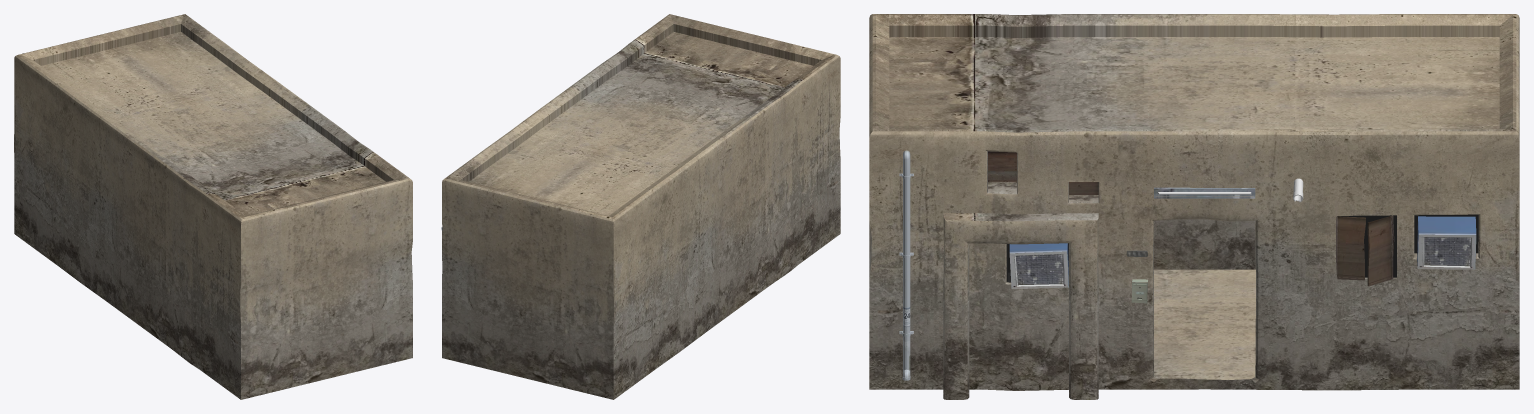
The model's file is block_hq.glb.
The picture shows the model from 3 angles, left to right: view 1: azimuth 30°, elevation 25°; view 2: azimuth 150°, elevation 25°; view 3: azimuth 270°, elevation 25°; orthographic projection. The views are drawn at different scales.
Visible parts, largest first — view 1: Cube.001_wall_0; view 2: Cube.001_wall_0; view 3: Cube.001_wall_0, Cube.001_Mkyf_0, Cube.001_WINDOW WOD_0, Cube.001_Material.002_0, Cube.001_black_0, Cube.001_LAMP.001_0.
Part boxes in pixels (<box>): Cube.001_wall_0: <box>14,14,412,399</box>; Cube.001_wall_0: <box>442,14,840,399</box>; Cube.001_wall_0: <box>869,14,1519,399</box>; Cube.001_Mkyf_0: <box>1009,216,1476,289</box>; Cube.001_WINDOW WOD_0: <box>988,151,1394,286</box>; Cube.001_Material.002_0: <box>899,150,913,380</box>; Cube.001_black_0: <box>1006,214,1478,282</box>; Cube.001_LAMP.001_0: <box>1154,187,1255,198</box>.
Bounding box in the file's own units: 3.77 × 3.46 × 7.86.
9 materials, 6 textured.
